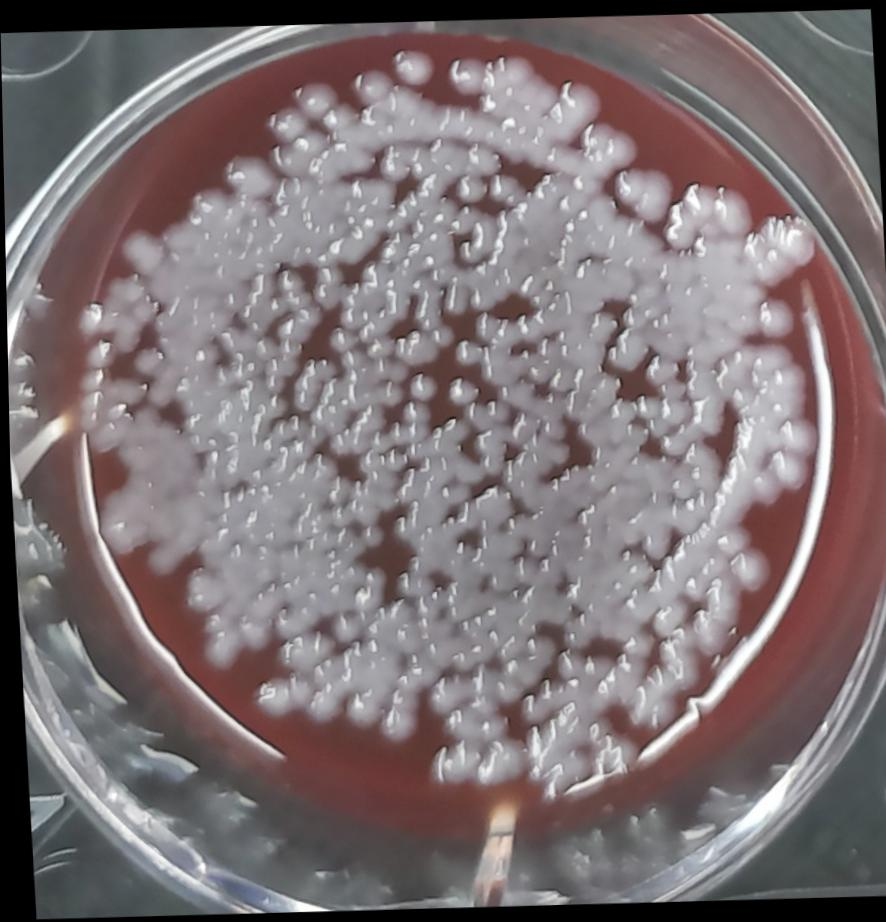smarcescens: (368, 703, 424, 752)
